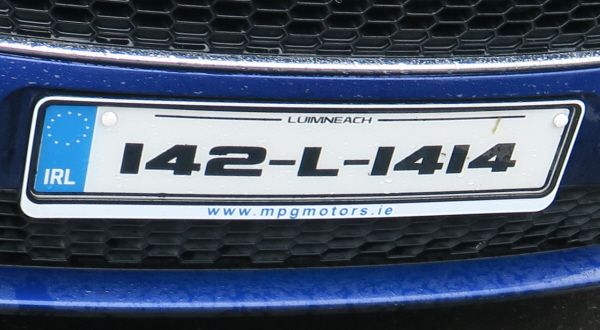license_plate: (27, 101, 583, 205)
